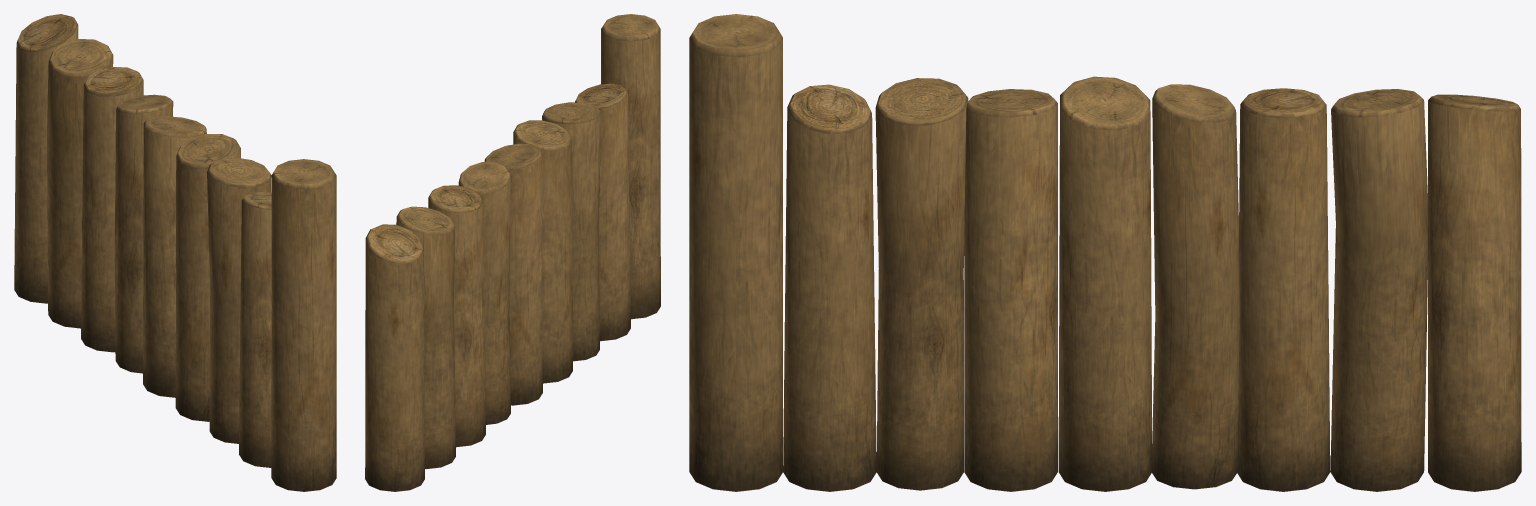
File: FenceLow_Wood_End01.fbx
3 views of the same model, side by side, from view 1: azimuth 30°, elevation 25°; view 2: azimuth 150°, elevation 25°; view 3: azimuth 270°, elevation 25° (orthographic). The views are drawn at different scales.
Parts seen in each view (by area): view 1: Cylinder; view 2: Cylinder; view 3: Cylinder.
Part boxes in pixels (x1,y1,x2,y2): Cylinder: [14, 14, 336, 491]; Cylinder: [365, 14, 660, 491]; Cylinder: [689, 14, 1521, 491].
Bounding box in the file's own units: 22.51 × 117 × 200.
